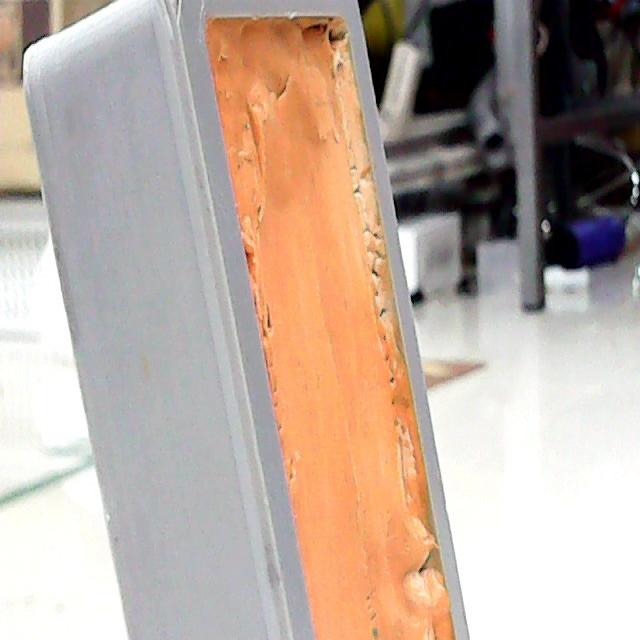block: (0, 0, 473, 637)
